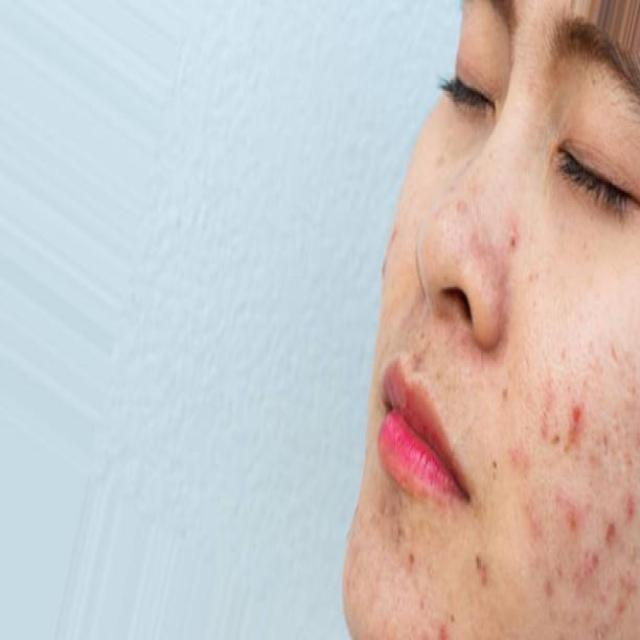Rosacea: (499, 330, 640, 640)
